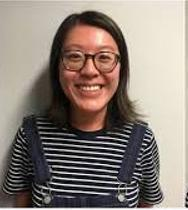Drunk: (63, 28, 118, 111)
